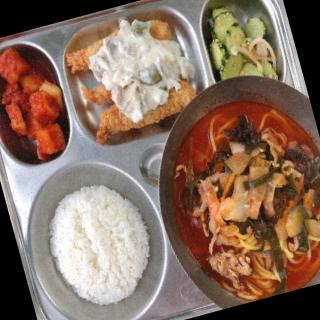Nasi: (37, 174, 166, 317)
